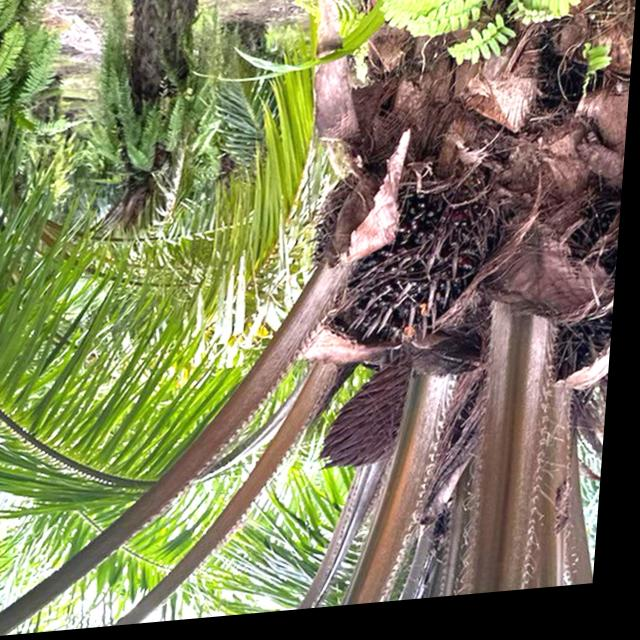ripe: (333, 191, 498, 368)
